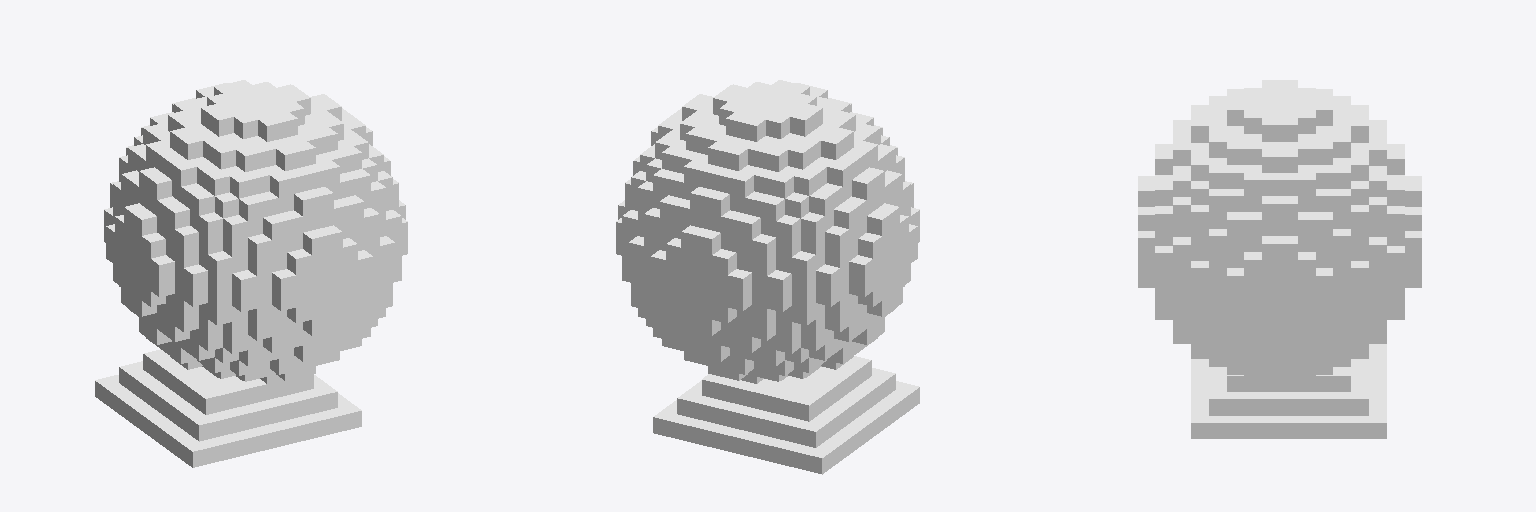
The model's file is pacman_base.obj.
3 views of the same model, side by side, from view 1: azimuth 30°, elevation 25°; view 2: azimuth 150°, elevation 25°; view 3: azimuth 270°, elevation 25° (orthographic).
Parts seen in each view (by area): view 1: object 1; view 2: object 1; view 3: object 1.
Boxes of the visible parts, <box> form: object 1: <box>95,80,407,467</box>; object 1: <box>616,80,919,474</box>; object 1: <box>1138,80,1421,438</box>.
Size of the model in its own units: 1.6 by 1.9 by 1.6.